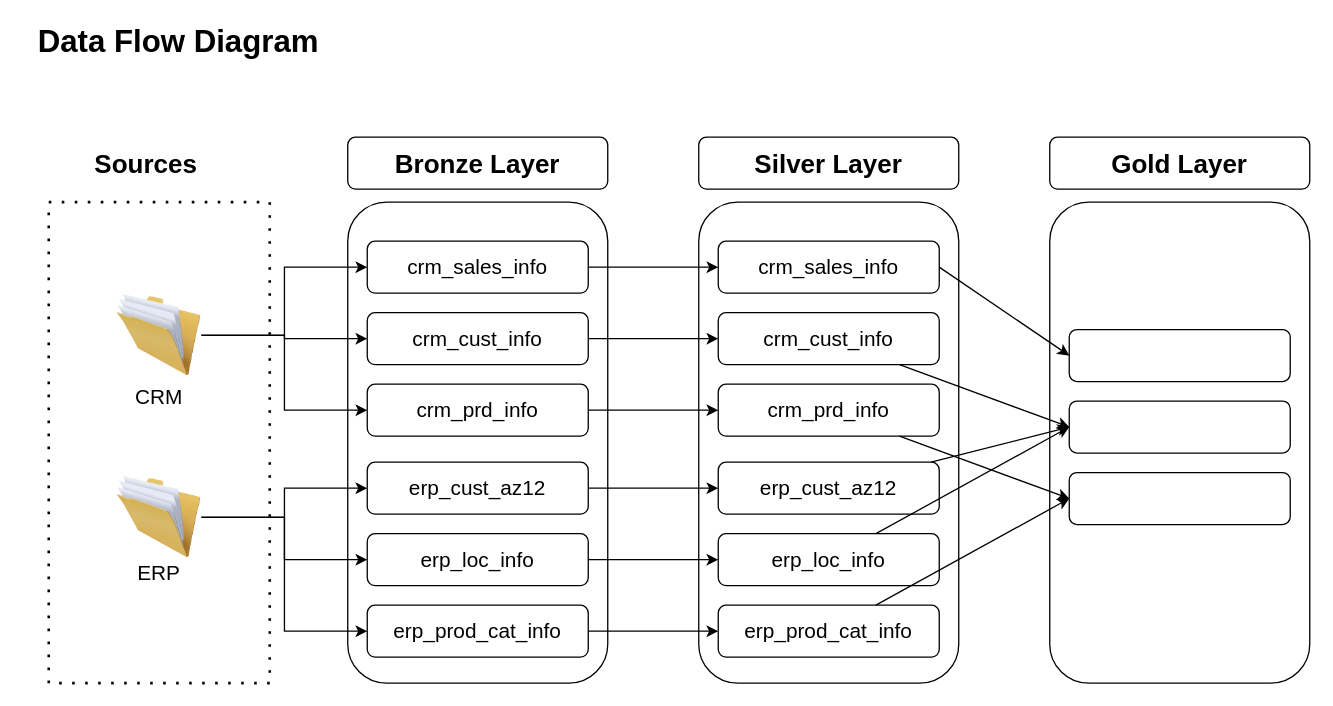
Image size: 1333x706. Some labels were removed from this diagram. The shapes that lost their labels are listed below. From the top down, each one's box as (x1, y1, x2, y2) in pixels, then its label:
(1068, 328, 1290, 382): fact_sales
(1068, 400, 1290, 453): dim_customers
(1068, 471, 1290, 525): dim_products
